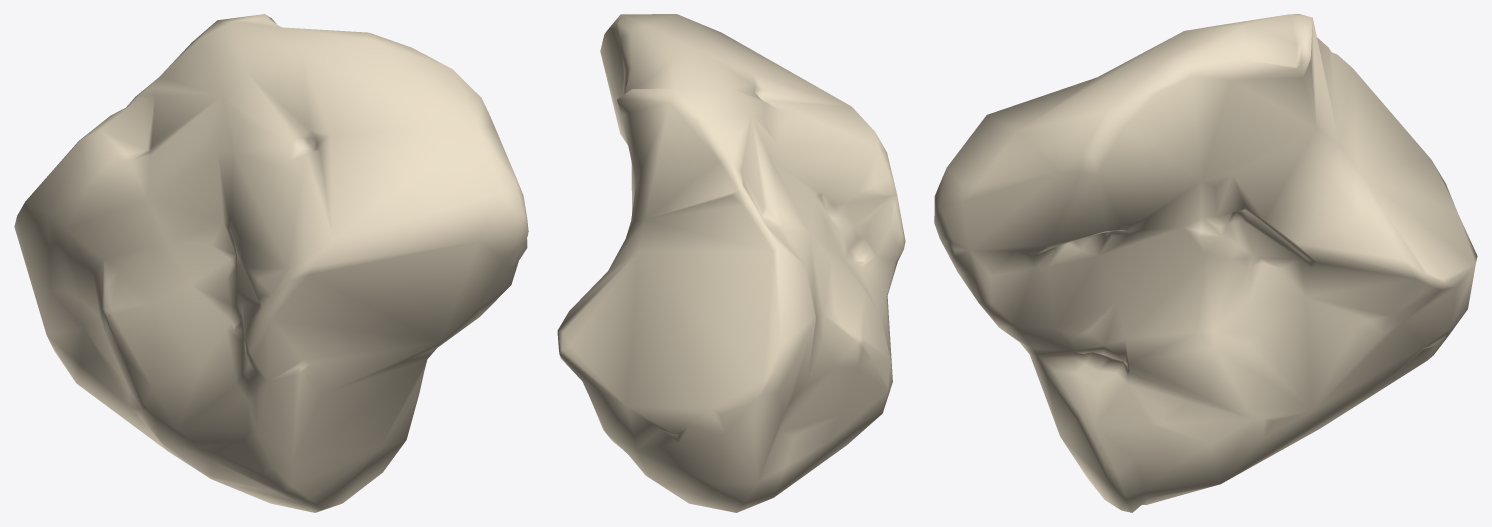
The model's file is medial-cuneiform-bone-l.glb.
The picture shows the model from 3 angles, left to right: view 1: azimuth 30°, elevation 25°; view 2: azimuth 150°, elevation 25°; view 3: azimuth 270°, elevation 25°; orthographic projection. The views are drawn at different scales.
Parts seen in each view (by area): view 1: Medial cuneiform bone.l; view 2: Medial cuneiform bone.l; view 3: Medial cuneiform bone.l.
Boxes of the visible parts, left/top/right/bottom form: Medial cuneiform bone.l: left=14, top=14, right=528, bottom=512; Medial cuneiform bone.l: left=557, top=14, right=905, bottom=512; Medial cuneiform bone.l: left=934, top=14, right=1477, bottom=512.
Bounding box in the file's own units: 0.0251 × 0.0323 × 0.033.
